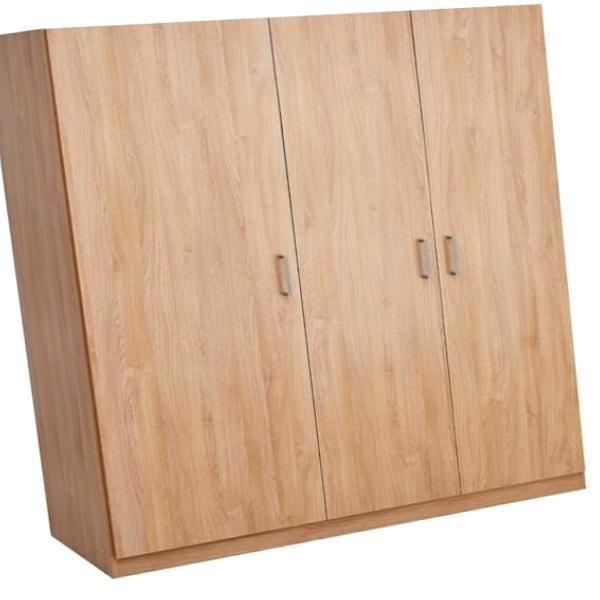Armario: (0, 8, 598, 577)
